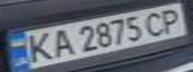2: (72, 23, 96, 53)
5: (124, 12, 148, 42)
7: (109, 16, 130, 45)
8: (93, 19, 115, 48)
A: (45, 26, 75, 59)
C: (139, 8, 172, 37)
K: (18, 29, 57, 64)
P: (154, 6, 190, 35)
